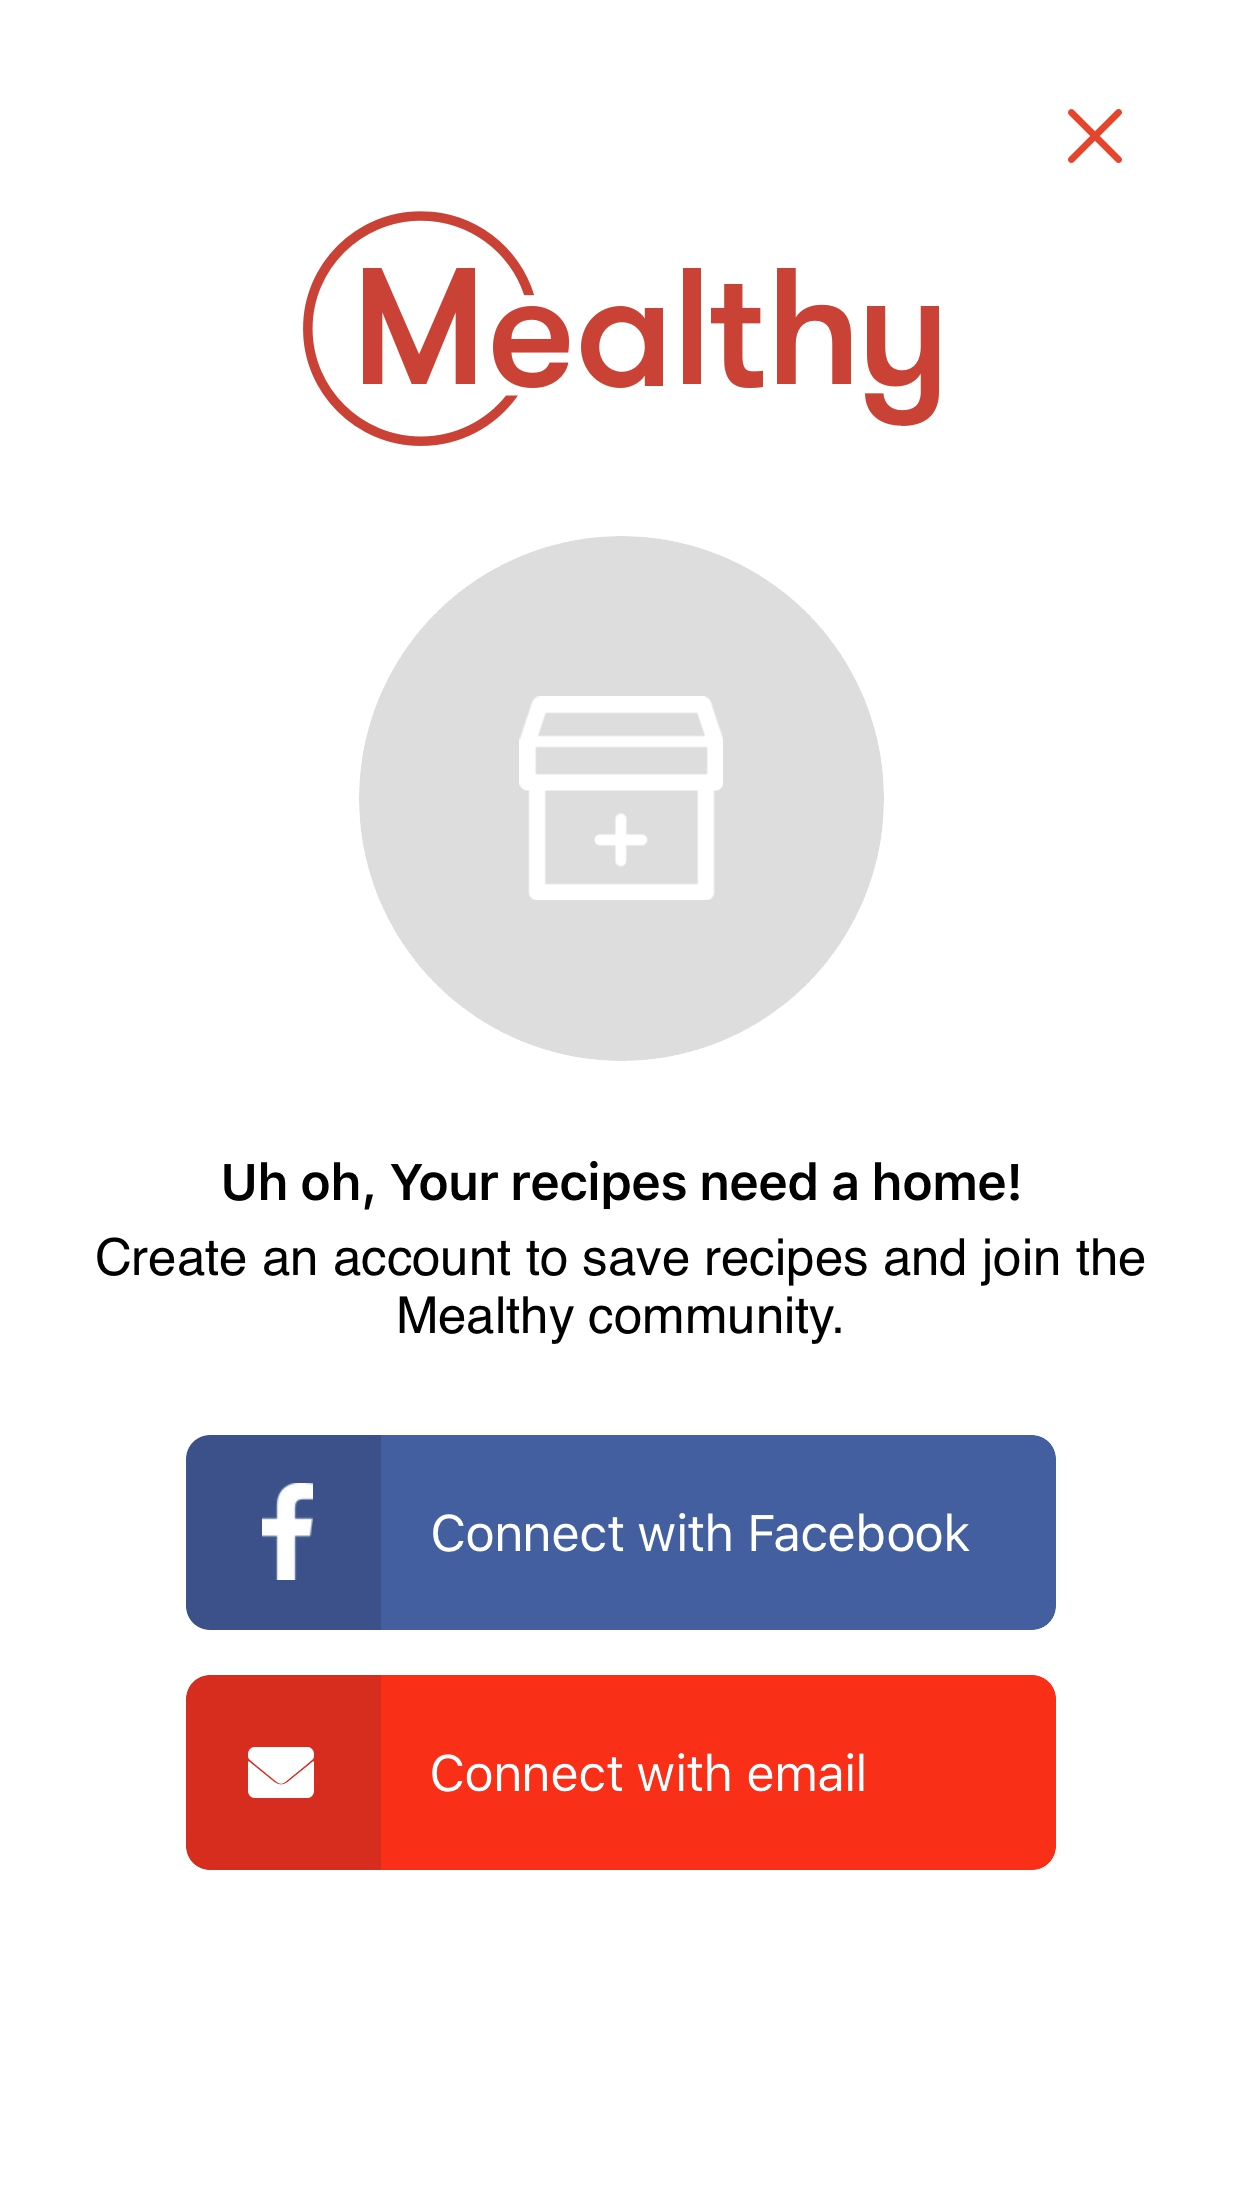Icon: (1068, 111, 1124, 165)
Image: (358, 535, 886, 1063), (302, 211, 940, 447)
Text: (97, 1236, 1145, 1345), (224, 1162, 1021, 1212)
TextButton: (187, 1435, 1057, 1632), (187, 1676, 1057, 1871)
